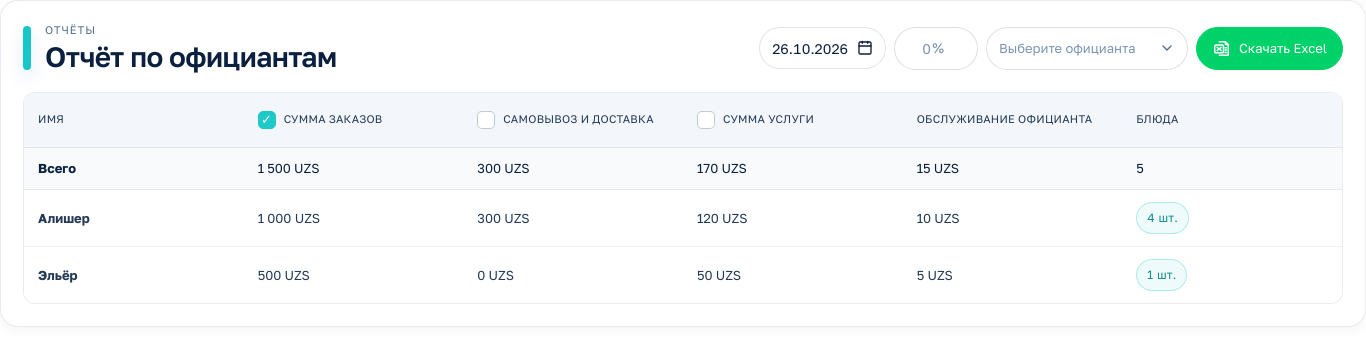
Test: WaitersReportPage › replaces the selected waiter and preserves the current report controls
Check: the text "Алишер" is shown, box top-left (38, 210), bottom-right (90, 226)
Step 1. Type "12" into the number field named "Процент обслуживания" → (926, 48), box top-left (901, 28), bottom-right (951, 69)
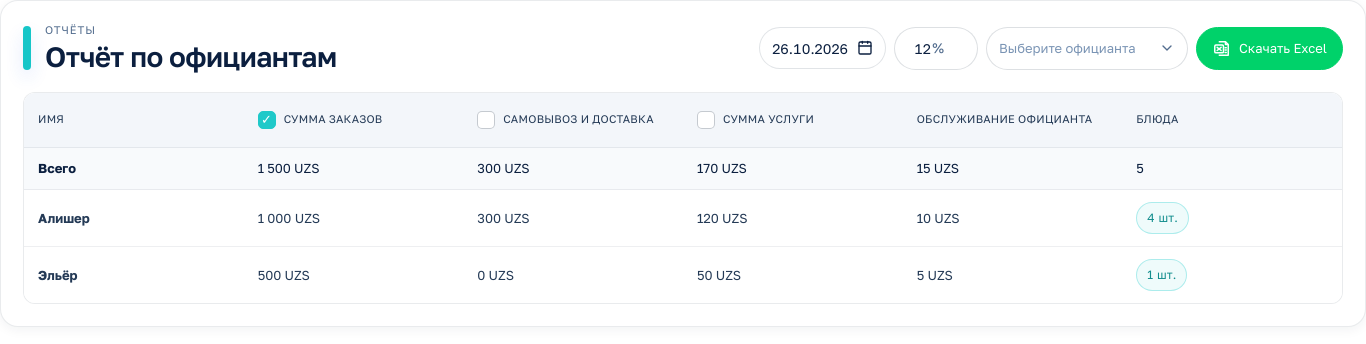
Step 2. Click the checkbox labelled "Сумма услуги" → (756, 120), box top-left (697, 111), bottom-right (814, 129)
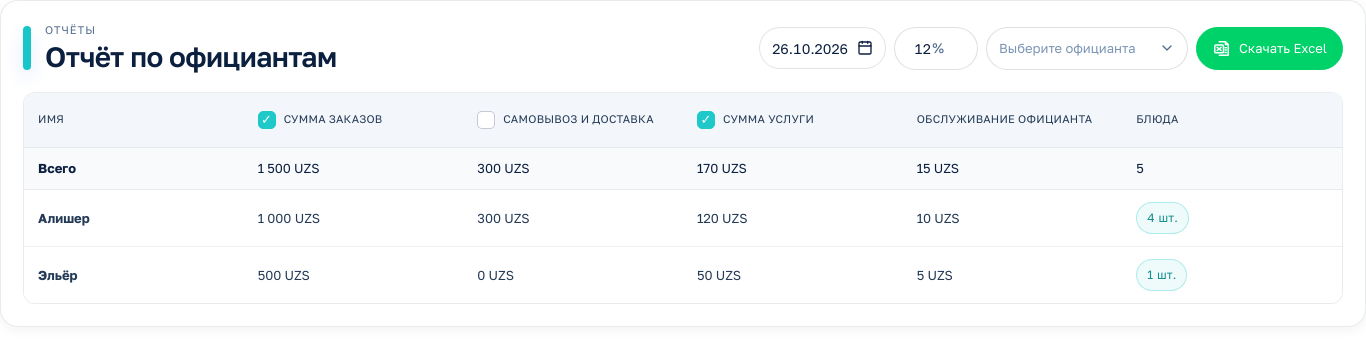
Step 3. Click the dropdown labelled "официант" → (1087, 48), box top-left (986, 27), bottom-right (1188, 70)
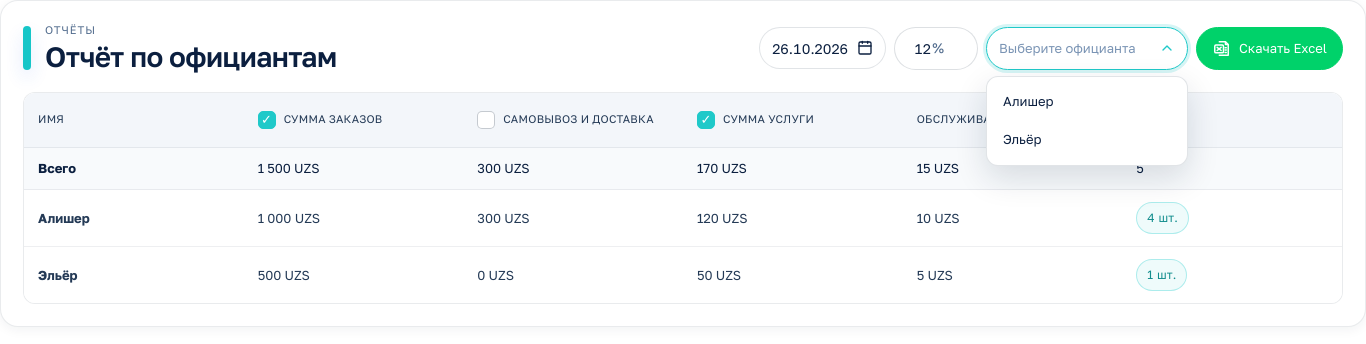
Step 4. Click the option "Алишер" → (1087, 102), box top-left (993, 83), bottom-right (1181, 121)
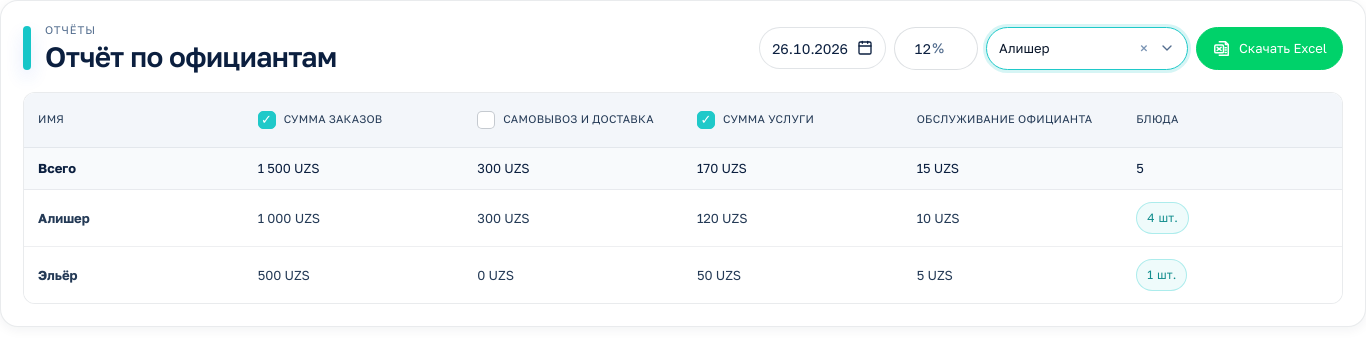
Step 5. Click the dropdown named "Официант" → (1087, 48), box top-left (986, 27), bottom-right (1188, 70)
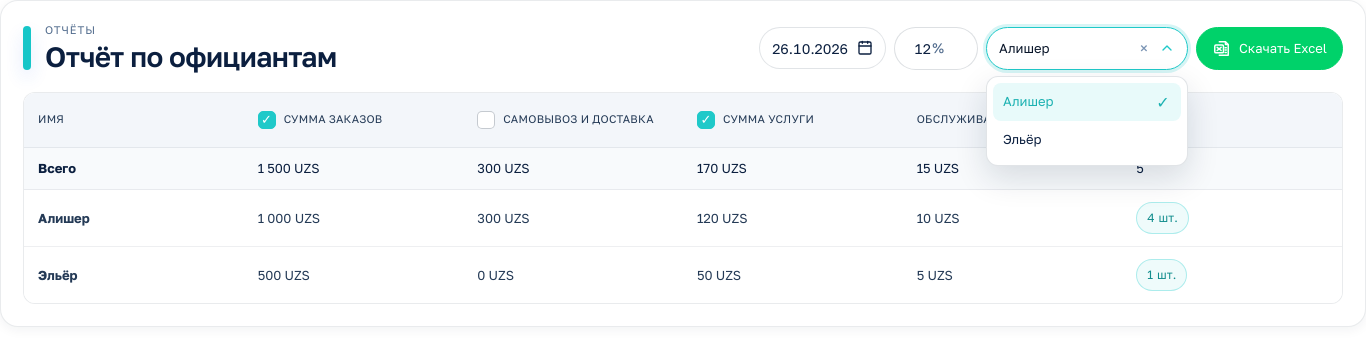
Step 6. Click the option "Эльёр" → (1087, 140), box top-left (993, 121), bottom-right (1181, 159)
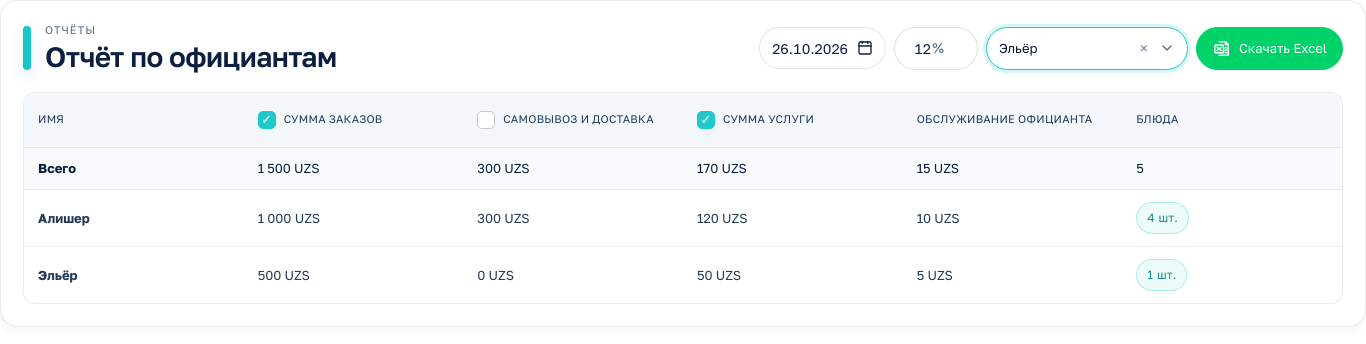
Check: the dropdown named "Официант" reads "Эльёр", box top-left (986, 27), bottom-right (1188, 70)
